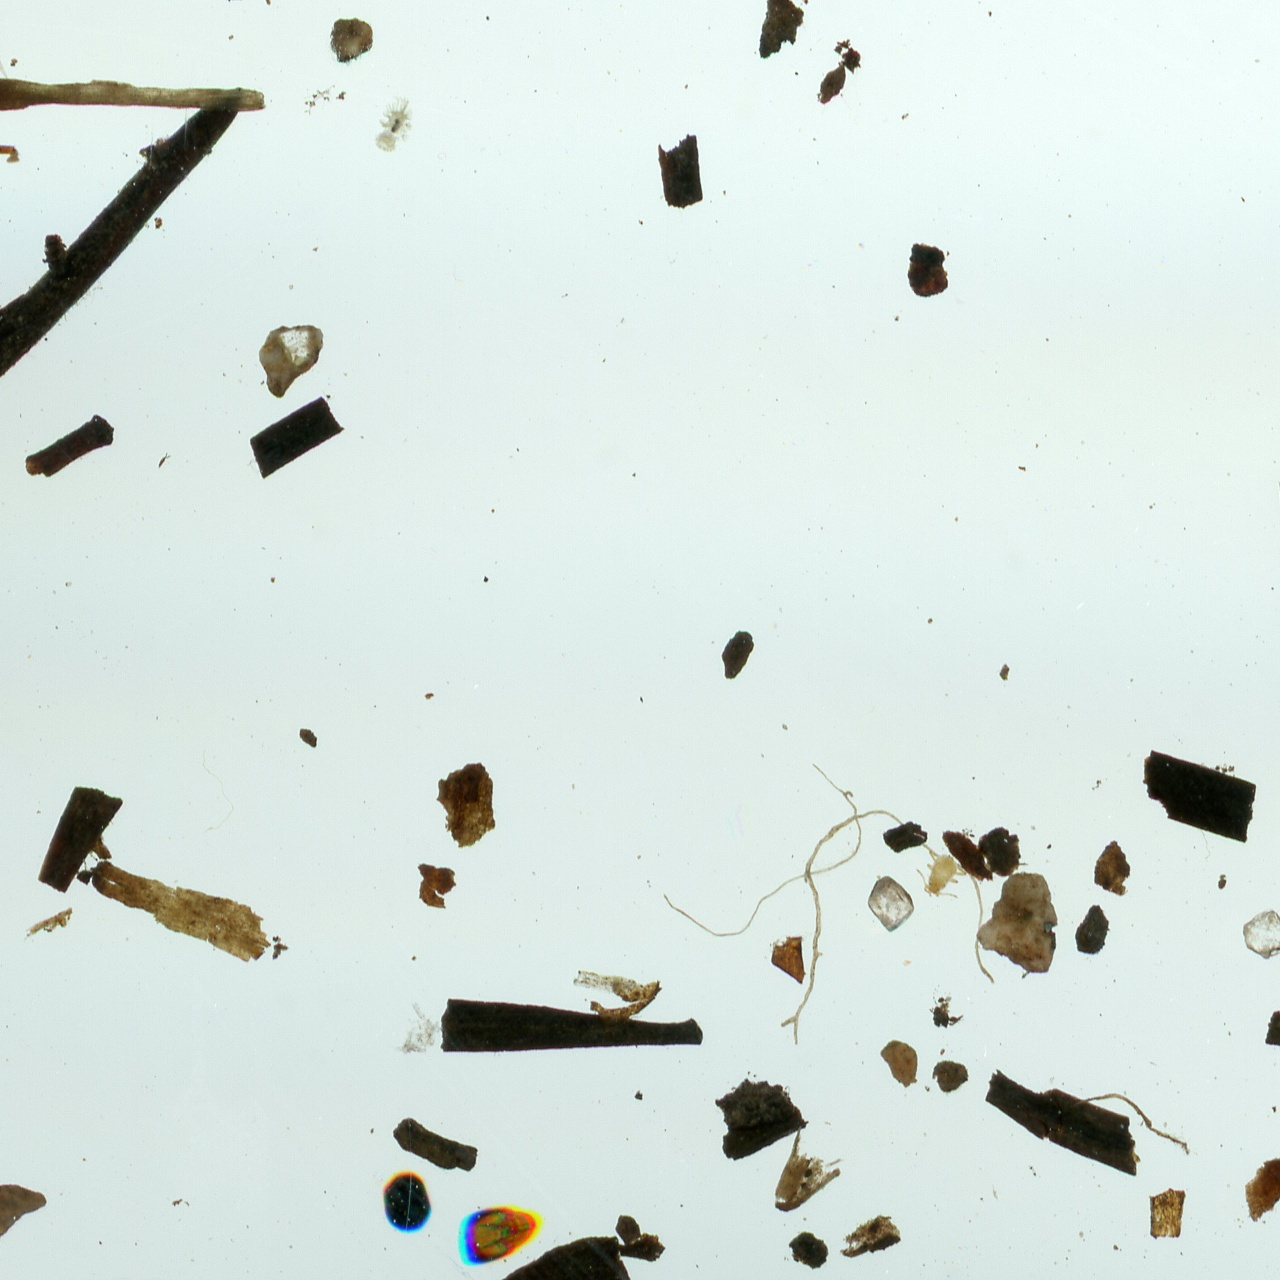arthropod: (887, 830, 978, 912), (373, 94, 414, 155), (0, 0, 16, 88)
